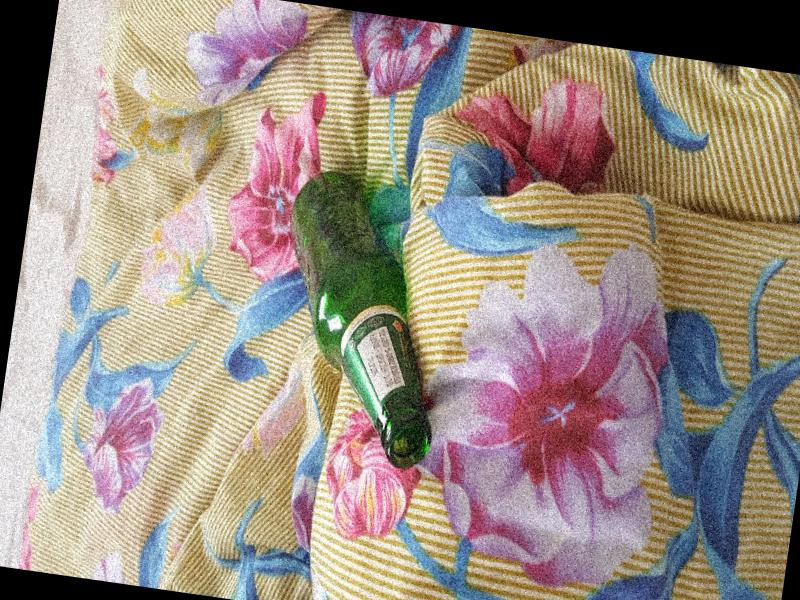Beer: (259, 169, 468, 470)
